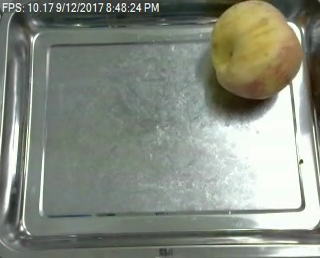Peach: (209, 0, 303, 99)
